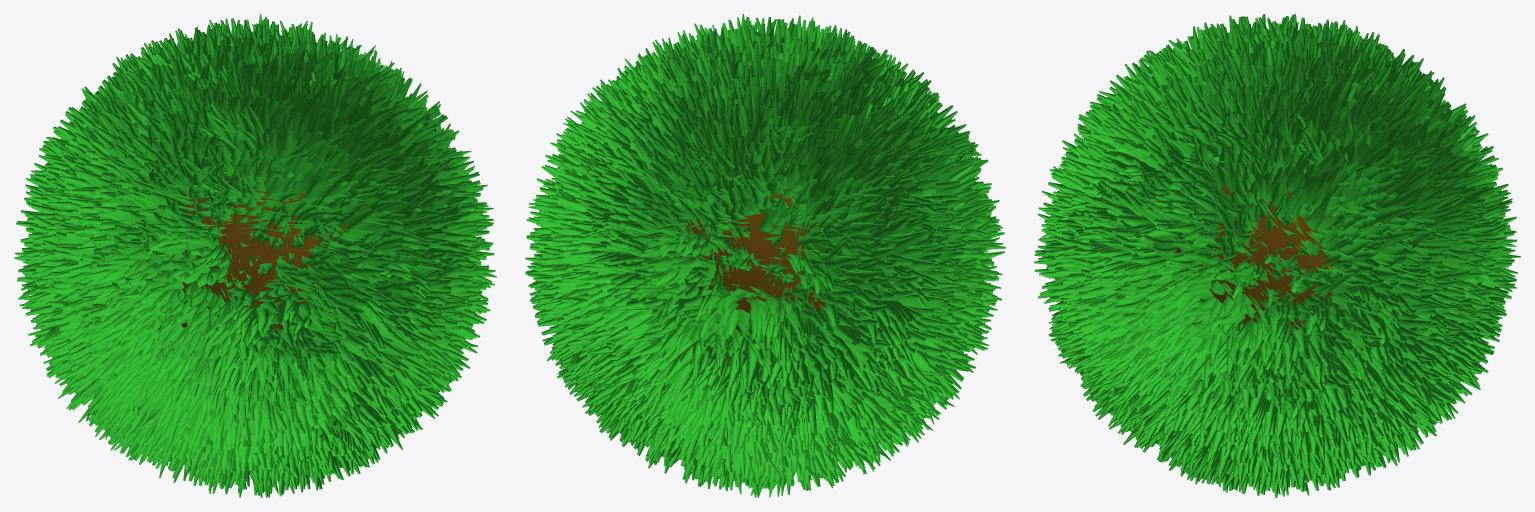
File: green ball.glb
The picture shows the model from 3 angles, left to right: view 1: azimuth 30°, elevation 25°; view 2: azimuth 150°, elevation 25°; view 3: azimuth 270°, elevation 25°; orthographic projection.
Parts seen in each view (by area): view 1: Object001, Sphere001; view 2: Object001, Sphere001; view 3: Object001, Sphere001.
Boxes of the visible parts, x1,y1,x2,y2 form: Object001: [14, 14, 496, 497]; Sphere001: [165, 137, 347, 333]; Object001: [525, 14, 1005, 497]; Sphere001: [674, 151, 841, 332]; Object001: [1034, 14, 1520, 497]; Sphere001: [1156, 160, 1373, 342].
Size of the model in its own units: 1.42 by 1.43 by 1.43.
